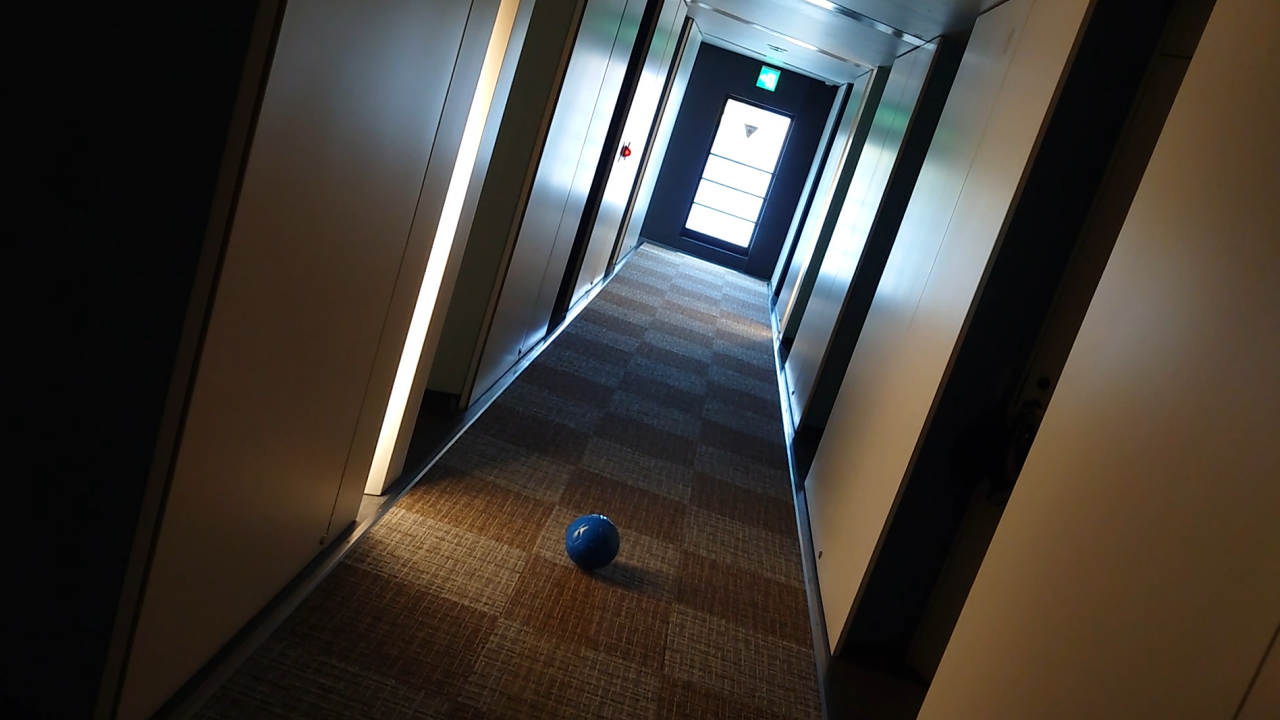BlueBall: (563, 509, 621, 574)
